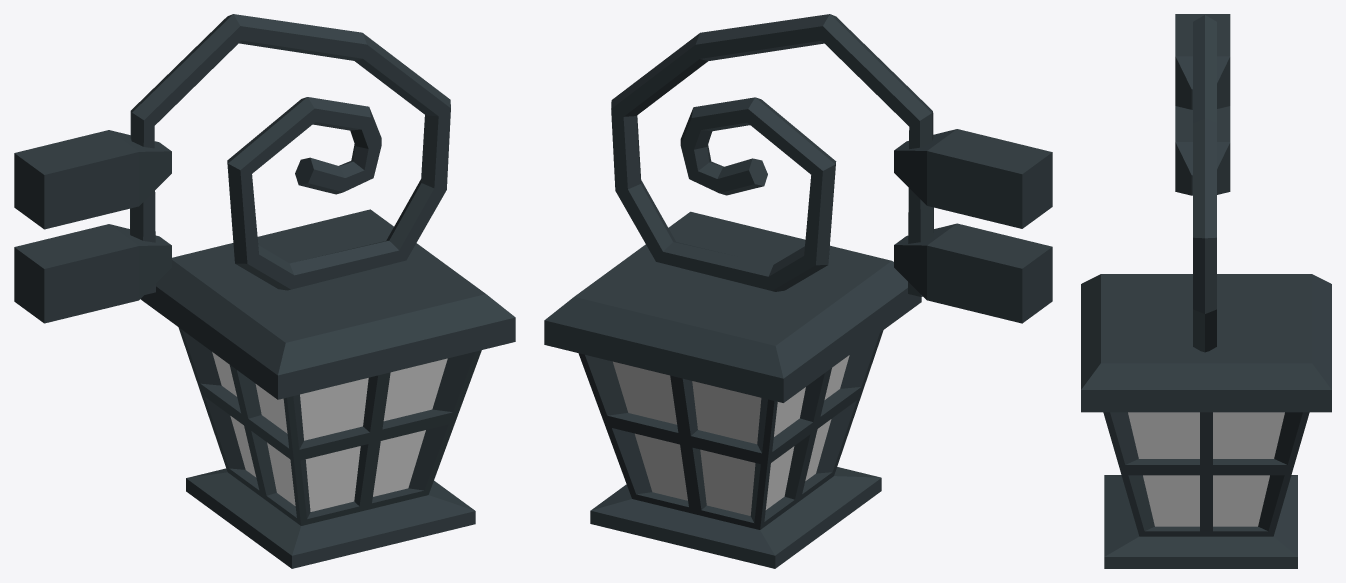
File: lantern_wall.fbx
The picture shows the model from 3 angles, left to right: view 1: azimuth 30°, elevation 25°; view 2: azimuth 150°, elevation 25°; view 3: azimuth 270°, elevation 25°; orthographic projection. The views are drawn at different scales.
Visible parts, largest first — view 1: Plane.002; view 2: Plane.002; view 3: Plane.002.
Boxes of the visible parts, left/top/right/bottom form: Plane.002: left=14, top=14, right=515, bottom=568; Plane.002: left=544, top=14, right=1052, bottom=568; Plane.002: left=1081, top=14, right=1331, bottom=568.
Bounding box in the file's own units: 0.8165 × 0.9523 × 0.4597.
